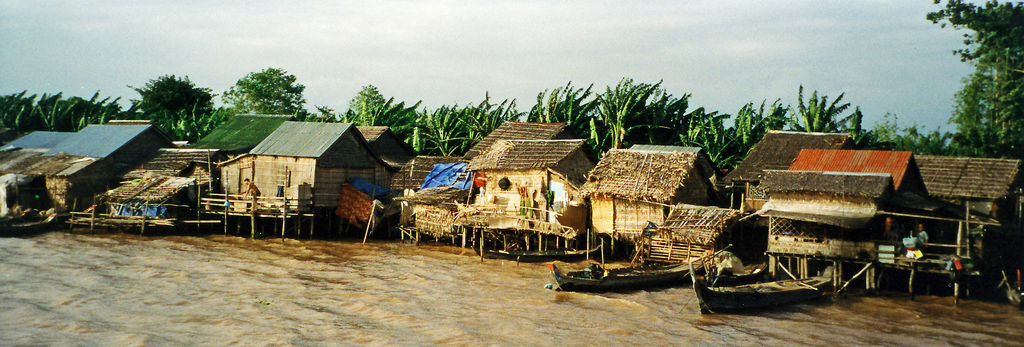Tree: (309, 75, 704, 154), (868, 0, 1023, 157), (682, 71, 868, 174), (133, 67, 309, 145), (0, 85, 136, 140)
